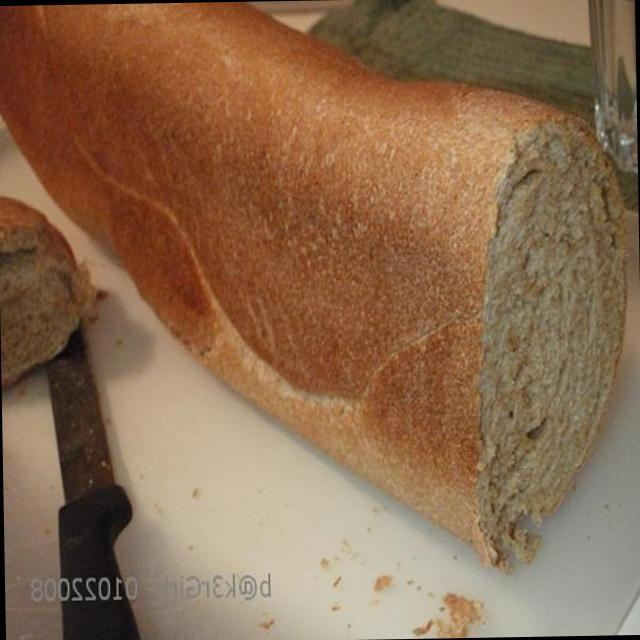Bread: (238, 1, 635, 352)
